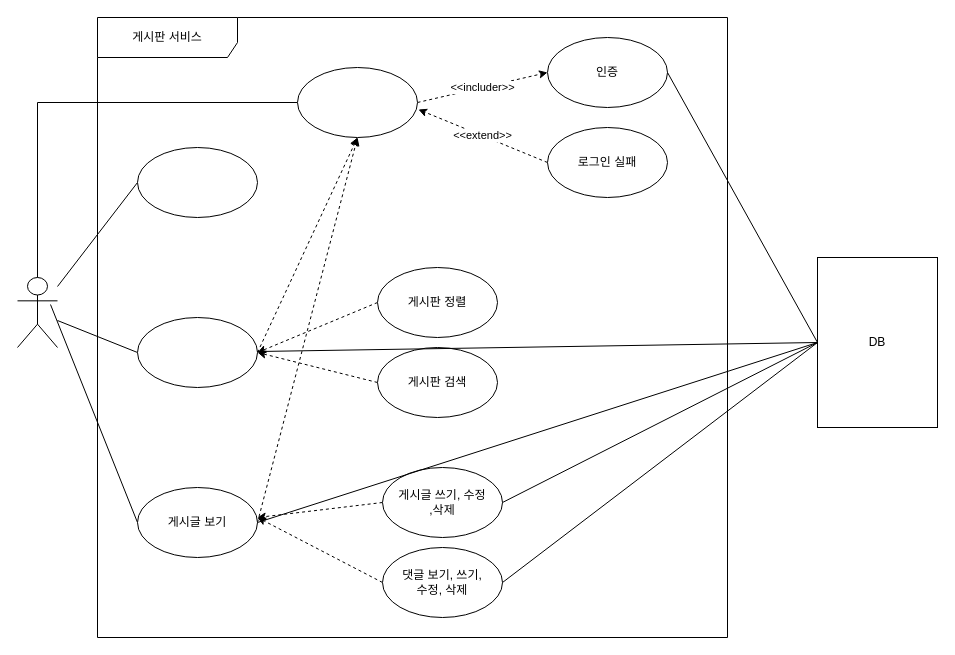
Image size: 955x655. Some labels were removed from this diagram. Each missing label, with the centre of its shape:
"게시판 보기" belongs at point 197,352.
"이용자" belongs at point 37,312.
"회원 가입" belongs at point 197,182.
"회원 로그인" belongs at point 357,102.
